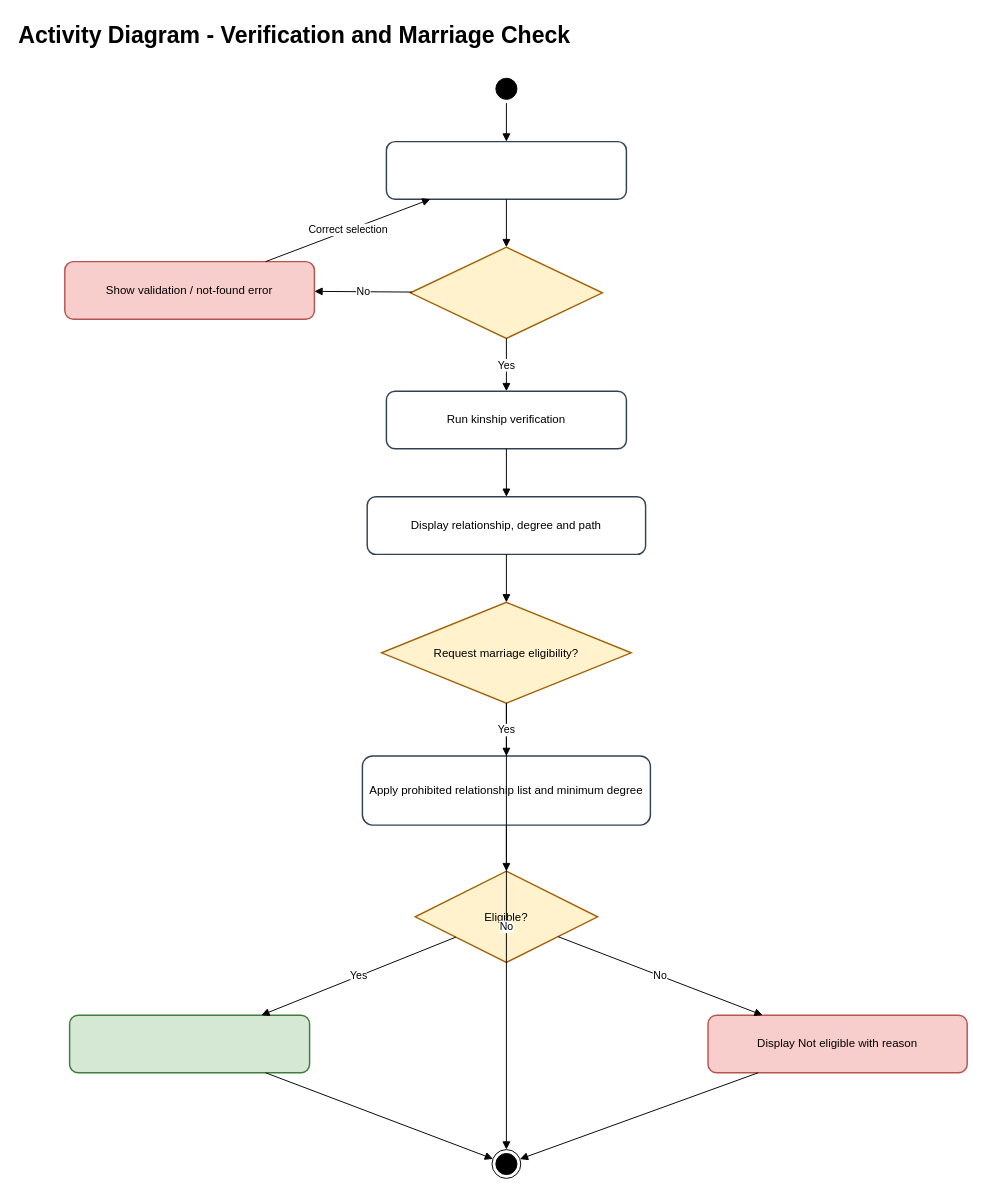
The diagram is 984 pixels wide and 1195 high, and some of its shapes have lost their labels. The centre of each missing label's shape, as x and y in pixels:
Display Eligible with reason: the point at 189,1043
Select Person A and Person B: the point at 506,169
Two valid records?: the point at 506,292
